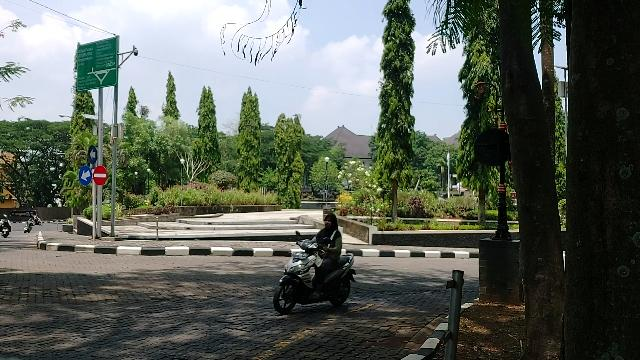motor: (273, 231, 359, 315)
non-helm: (324, 213, 340, 232)
